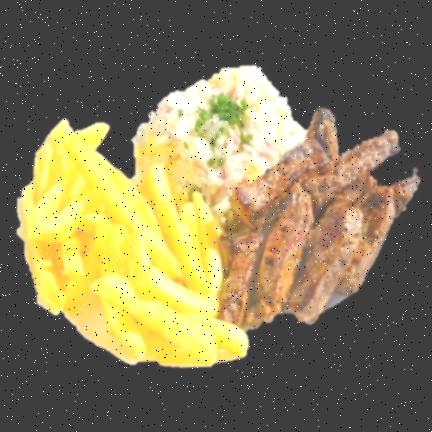meat: (223, 111, 422, 330)
potato: (18, 119, 249, 362)
rice: (130, 64, 309, 198)
